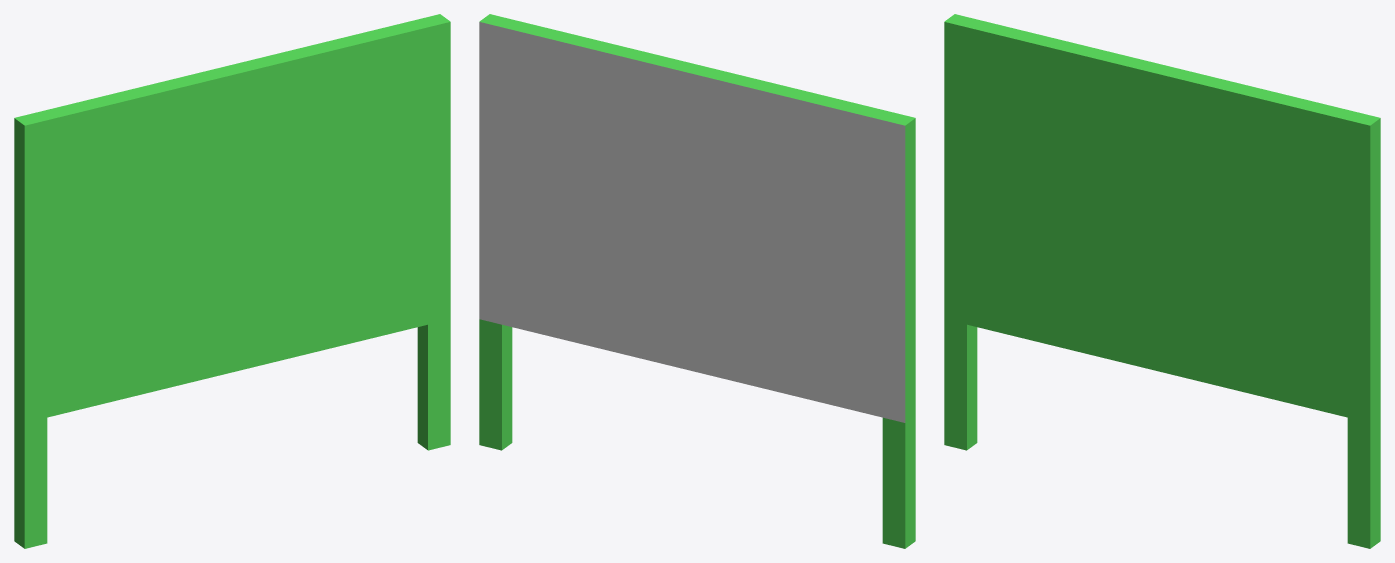
The model's file is signboard-6x4.glb.
The picture shows the model from 3 angles, left to right: view 1: azimuth 30°, elevation 25°; view 2: azimuth 150°, elevation 25°; view 3: azimuth 330°, elevation 25°; orthographic projection.
Visible parts, largest first — view 1: Cube.004, Cube.003; view 2: Cube.001, Cube.003, Cube.004; view 3: Cube.004, Cube.003.
Boxes of the visible parts, x1,y1,x2,y2 form: Cube.004: (14,14,450,422); Cube.003: (14,319,450,548); Cube.001: (479,22,905,422); Cube.003: (479,319,915,548); Cube.004: (479,14,915,422); Cube.004: (944,14,1380,422); Cube.003: (944,319,1380,548).
Bounding box in the file's own units: 1.83 × 1.74 × 0.079.
